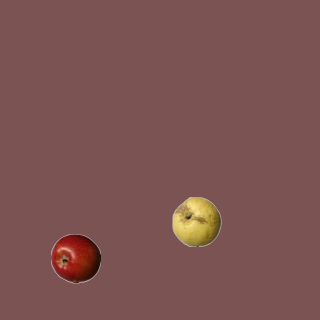Apple Braeburn: (50, 233, 100, 283)
Apple Golden 1: (171, 196, 221, 246)
